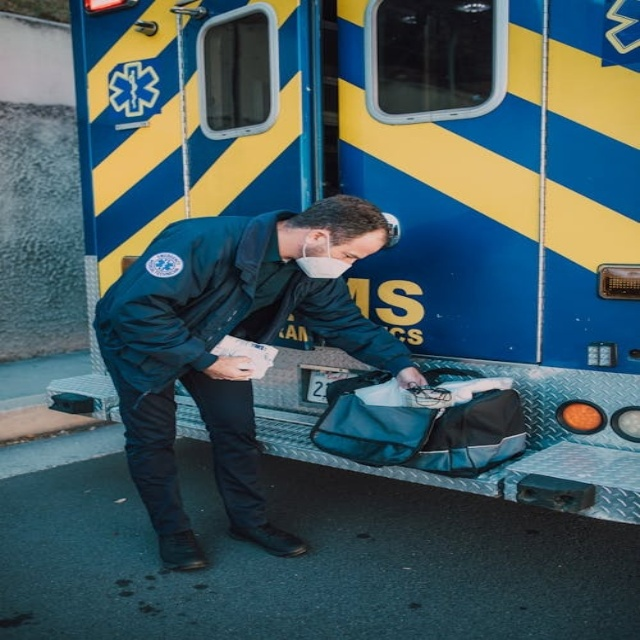Mascara: (297, 232, 355, 279)
Sin_gafas: (337, 244, 365, 263)
Sin_guantes: (204, 353, 257, 382), (390, 366, 431, 393)
